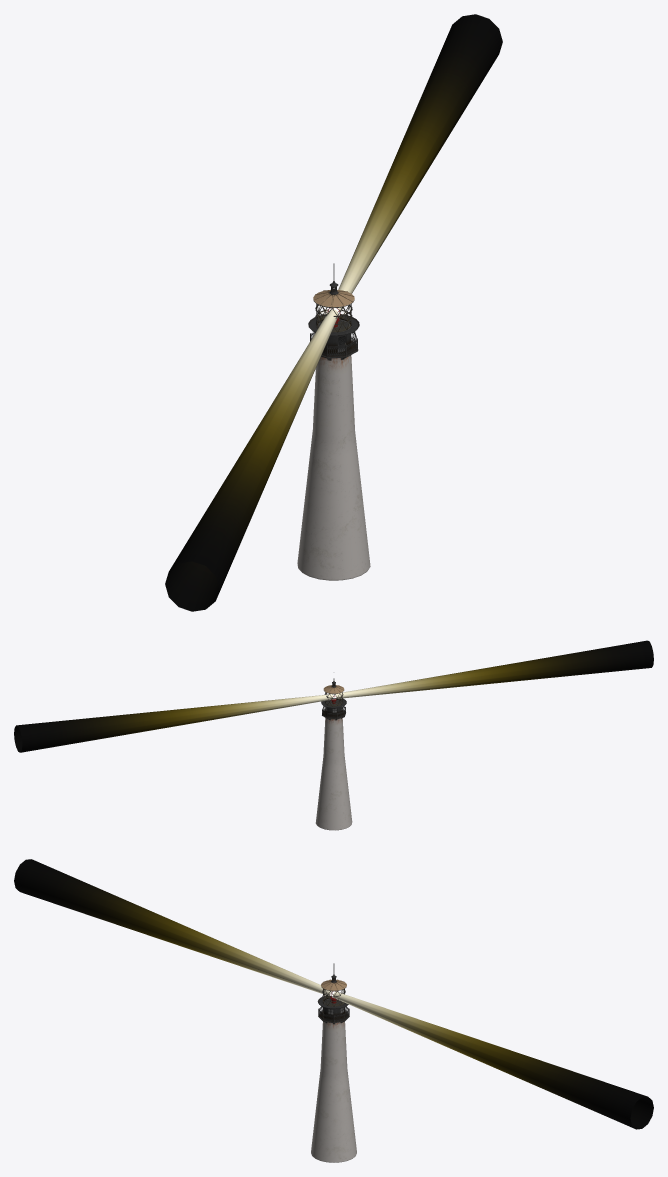
The model's file is lighthouse_fabiolopez_2k.glb.
3 views of the same model, one above another, from view 1: azimuth 30°, elevation 25°; view 2: azimuth 150°, elevation 25°; view 3: azimuth 270°, elevation 25° (orthographic). The views are drawn at different scales.
Parts seen in each view (by area): view 1: pasted__pCylinder14, polySurface1; view 2: pasted__pCylinder14, polySurface1; view 3: pasted__pCylinder14, polySurface1.
Part boxes in pixels (x1=…): pasted__pCylinder14: x1=165, y1=14, x2=502, y2=611; polySurface1: x1=297, y1=355, x2=370, y2=580; pasted__pCylinder14: x1=14, y1=640, x2=653, y2=752; polySurface1: x1=315, y1=718, x2=352, y2=830; pasted__pCylinder14: x1=14, y1=859, x2=653, y2=1129; polySurface1: x1=311, y1=1021, x2=356, y2=1162.
Bounding box in the file's own units: 34.88 × 12.45 × 37.98.
4 materials, 4 textured.
